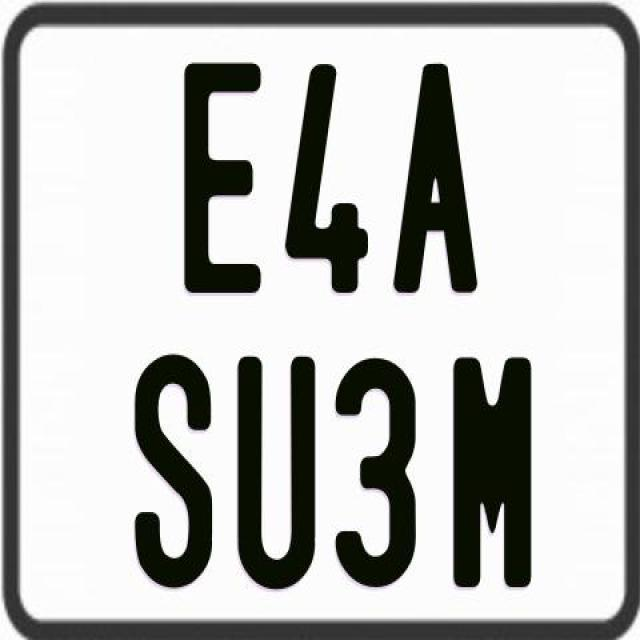3: (334, 354, 414, 588)
4: (284, 62, 374, 301)
A: (391, 62, 482, 293)
E: (182, 58, 266, 298)
M: (451, 354, 528, 586)
S: (134, 353, 213, 592)
U: (237, 356, 315, 598)
